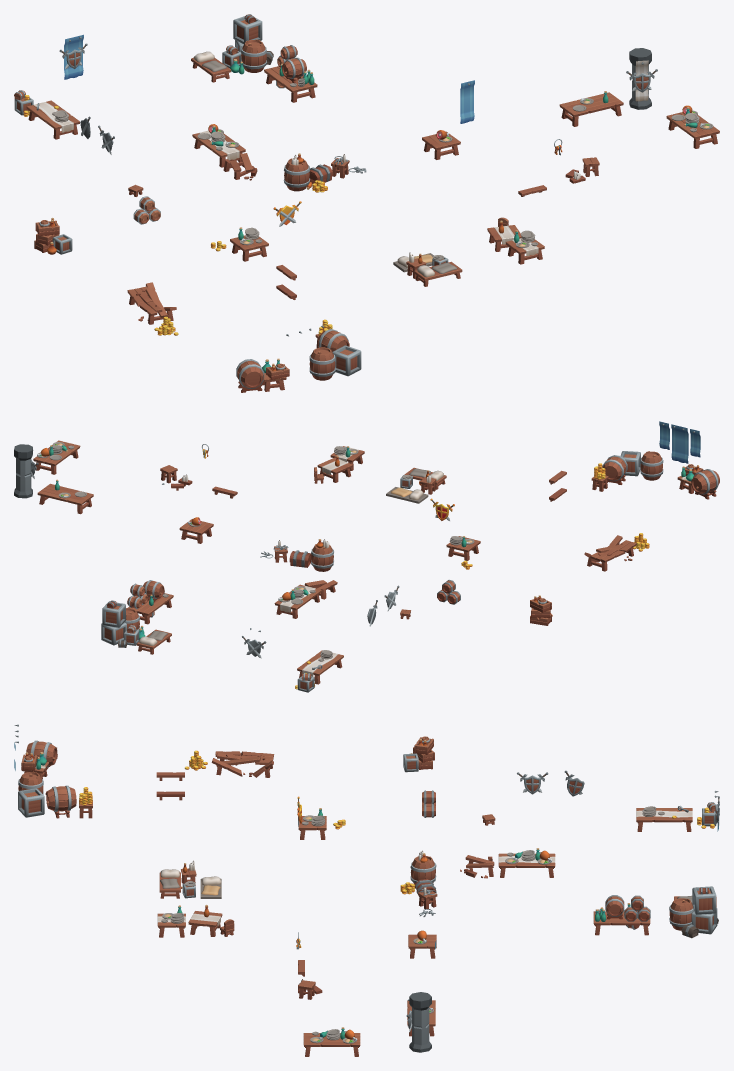
The model's file is props.glb.
3 views of the same model, one above another, from view 1: azimuth 30°, elevation 25°; view 2: azimuth 150°, elevation 25°; view 3: azimuth 270°, elevation 25° (orthographic). The views are drawn at different scales.
Parts seen in each view (by area): view 1: box_stacked, table_long_decorated_C, keg_decorated, pillar_decorated, table_long_decorated_A, table_long_tablecloth_decorated_A, bed_decorated, crates_stacked, table_long_broken, table_long_tablecloth, table_long, banner_shield_blue (+6 smaller); view 2: box_stacked, table_long_decorated_C, banner_triple_blue, keg_decorated, pillar_decorated, table_long_tablecloth_decorated_A, table_long_decorated_A, table_long_broken, bed_decorated, table_long, table_long_tablecloth, barrel_large_decorated (+9 smaller); view 3: box_stacked, table_long_decorated_C, pillar_decorated, table_long_broken, bed_decorated, table_long_tablecloth_decorated_A, table_long_decorated_A, keg_decorated, crates_stacked, table_long_tablecloth, keg, box_large (+3 smaller).
Part boxes in pixels (bbox=[...]): box_stacked: bbox=[222, 14, 273, 74]; table_long_decorated_C: bbox=[264, 45, 317, 102]; keg_decorated: bbox=[236, 358, 289, 392]; pillar_decorated: bbox=[626, 48, 657, 109]; table_long_decorated_A: bbox=[666, 105, 719, 148]; table_long_tablecloth_decorated_A: bbox=[192, 124, 245, 167]; bed_decorated: bbox=[406, 252, 462, 286]; crates_stacked: bbox=[34, 217, 72, 254]; table_long_broken: bbox=[127, 282, 176, 324]; table_long_tablecloth: bbox=[26, 100, 79, 139]; table_long: bbox=[559, 92, 623, 126]; banner_shield_blue: bbox=[59, 34, 87, 79]; box_stacked: bbox=[101, 600, 145, 647]; table_long_decorated_C: bbox=[127, 580, 173, 624]; banner_triple_blue: bbox=[659, 421, 700, 463]; keg_decorated: bbox=[677, 464, 719, 499]; pillar_decorated: bbox=[14, 444, 38, 498]; table_long_tablecloth_decorated_A: bbox=[274, 584, 321, 618]; table_long_decorated_A: bbox=[33, 440, 80, 474]; table_long_broken: bbox=[584, 535, 636, 571]; bed_decorated: bbox=[400, 467, 446, 494]; table_long: bbox=[37, 483, 93, 514]; table_long_tablecloth: bbox=[297, 650, 343, 684]; barrel_large_decorated: bbox=[311, 539, 333, 571]; box_stacked: bbox=[669, 886, 718, 938]; table_long_decorated_C: bbox=[593, 895, 650, 935]; pillar_decorated: bbox=[406, 992, 431, 1052]; table_long_broken: bbox=[211, 751, 274, 777]; bed_decorated: bbox=[159, 860, 196, 898]; table_long_tablecloth_decorated_A: bbox=[498, 848, 555, 877]; table_long_decorated_A: bbox=[303, 1027, 360, 1056]; keg_decorated: bbox=[21, 740, 57, 778]; crates_stacked: bbox=[403, 736, 434, 772]; table_long_tablecloth: bbox=[636, 808, 692, 831]; keg: bbox=[45, 785, 76, 818]; box_large: bbox=[18, 788, 44, 817].
Size of the model in its own units: 49.76 by 4.82 by 49.89.
Materials: 54 (54 with a texture image).
